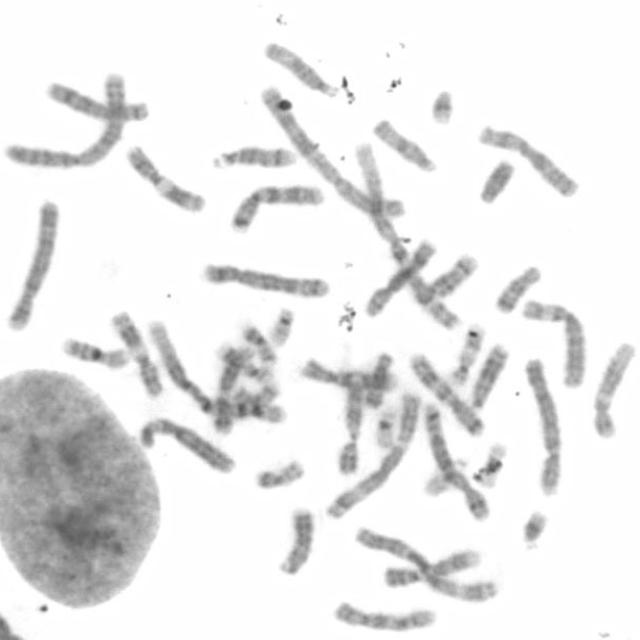A1: (352, 132, 464, 333), (143, 315, 284, 423)
A2: (256, 82, 408, 221), (1, 70, 130, 170)
A3: (322, 386, 423, 520), (351, 520, 500, 604)
B4: (3, 196, 62, 334), (520, 353, 564, 498)
B5: (420, 400, 491, 521), (198, 258, 332, 300)
C10: (297, 354, 399, 394), (328, 597, 439, 633)
C11: (122, 141, 208, 216), (107, 306, 164, 400)
C12: (586, 338, 636, 438), (208, 339, 254, 434)
C6: (518, 294, 590, 390), (134, 412, 238, 476)
C7: (404, 348, 487, 438), (225, 179, 325, 235)
C8: (360, 235, 438, 320), (40, 75, 151, 124)
C9: (379, 545, 483, 590), (333, 380, 365, 478)
D13: (274, 502, 318, 578), (464, 339, 511, 410)
D14: (414, 250, 478, 304), (208, 141, 298, 172)
D15: (260, 37, 340, 99), (369, 114, 438, 175)
E16: (56, 331, 131, 371), (228, 381, 289, 426)
E17: (210, 340, 274, 384), (444, 320, 486, 387)
E18: (489, 262, 544, 316), (359, 349, 396, 411)
F19: (469, 438, 509, 488), (370, 403, 400, 449)
F20: (250, 455, 309, 493), (236, 320, 278, 367)
G21: (516, 505, 549, 549), (425, 84, 457, 127)
G22: (420, 453, 469, 497), (264, 302, 296, 348)
X: (472, 121, 582, 199)
Y: (474, 156, 516, 206)
